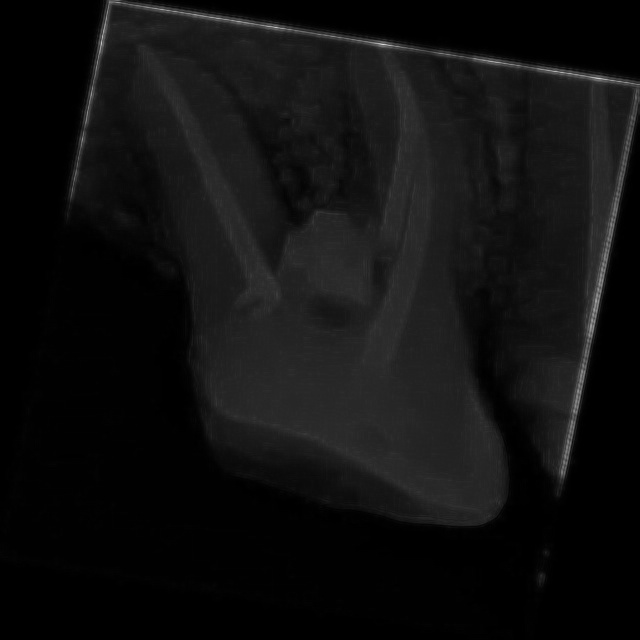Class 1- complete endodontic treatment: (40, 1, 573, 450)
